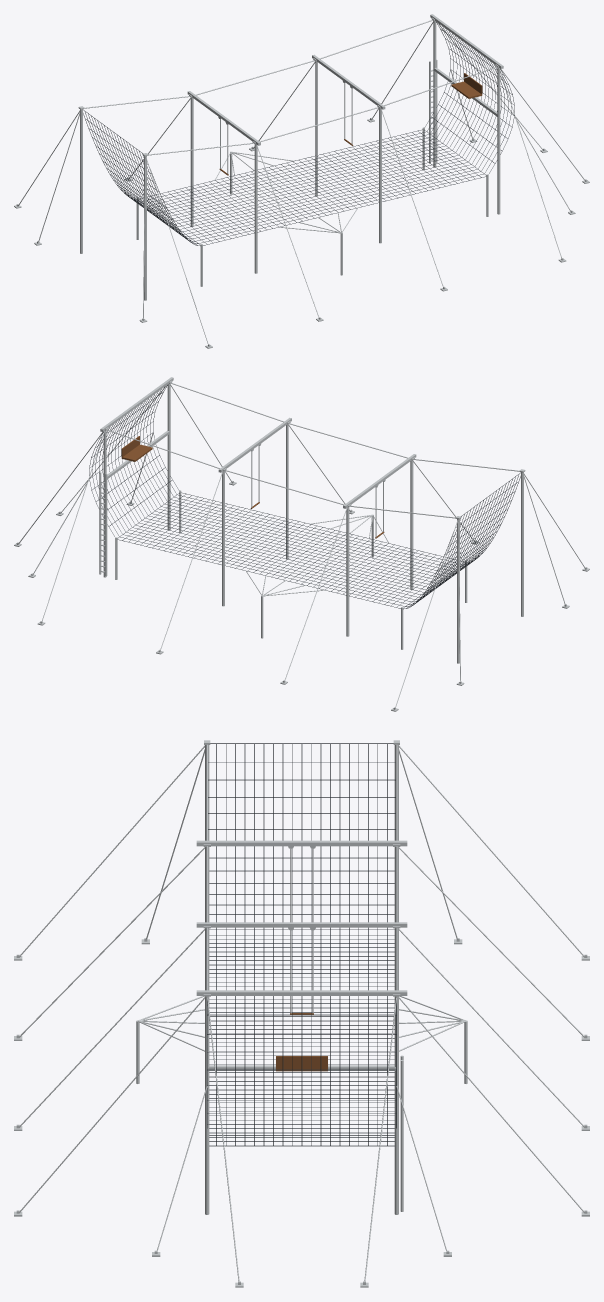
The model's file is trapeze_rig_01.glb.
3 renders of one model, top to bottom at view 1: azimuth 30°, elevation 25°; view 2: azimuth 150°, elevation 25°; view 3: azimuth 270°, elevation 25°, orthographic. The views are drawn at different scales.
Parts seen in each view (by area): view 1: GEO-trapeze_rig_01, GEO-trapeze_rig_01-01, GEO-trapeze_rig_01-04; view 2: GEO-trapeze_rig_01, GEO-trapeze_rig_01-01, GEO-trapeze_rig_01-04; view 3: GEO-trapeze_rig_01, GEO-trapeze_rig_01-01, GEO-trapeze_rig_01-04.
Boxes of the visible parts, x1=… form: GEO-trapeze_rig_01: x1=83, y1=22, x2=514, y2=245; GEO-trapeze_rig_01-01: x1=14, y1=14, x2=589, y2=348; GEO-trapeze_rig_01-04: x1=451, y1=73, x2=482, y2=98; GEO-trapeze_rig_01: x1=89, y1=385, x2=520, y2=609; GEO-trapeze_rig_01-01: x1=14, y1=377, x2=589, y2=711; GEO-trapeze_rig_01-04: x1=121, y1=436, x2=152, y2=461; GEO-trapeze_rig_01: x1=207, y1=743, x2=396, y2=1146; GEO-trapeze_rig_01-01: x1=14, y1=740, x2=589, y2=1287; GEO-trapeze_rig_01-04: x1=276, y1=1056, x2=327, y2=1071.
Size of the model in its own units: 1.58 by 0.4735 by 1.11.
